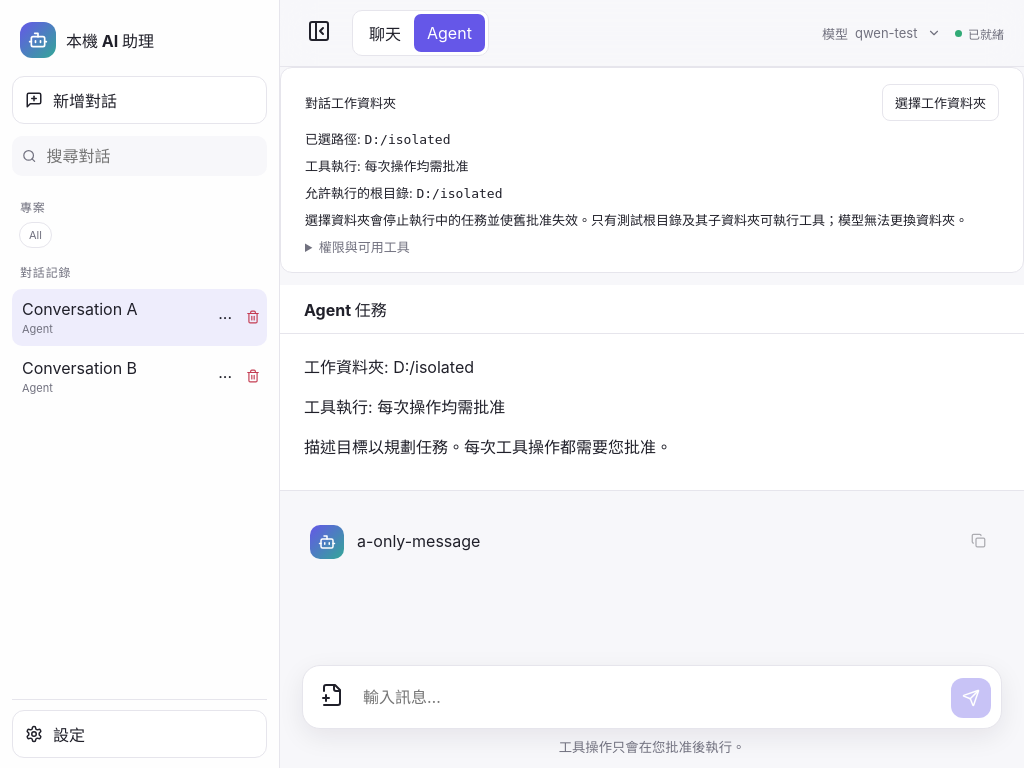
Test case: modern desktop › ignores a late agent_history response after another conversation is selected
This screenshot has width=1024, height=768.
What coordinates should you click on to do the following:
click the button "Conversation B Agent"
I would click on:
 (112, 376)
Its box is [12,348,211,405].
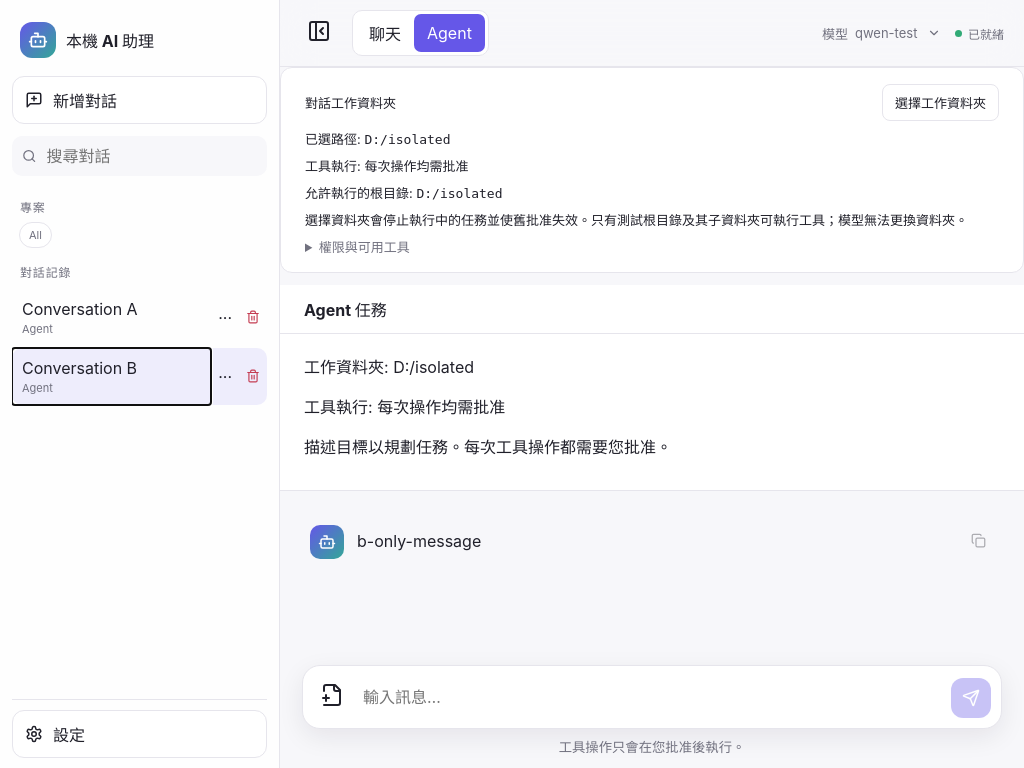
Now the text "b-only-message" is shown, box [357,531,481,551]
Now the text "a-only-message" is gone
